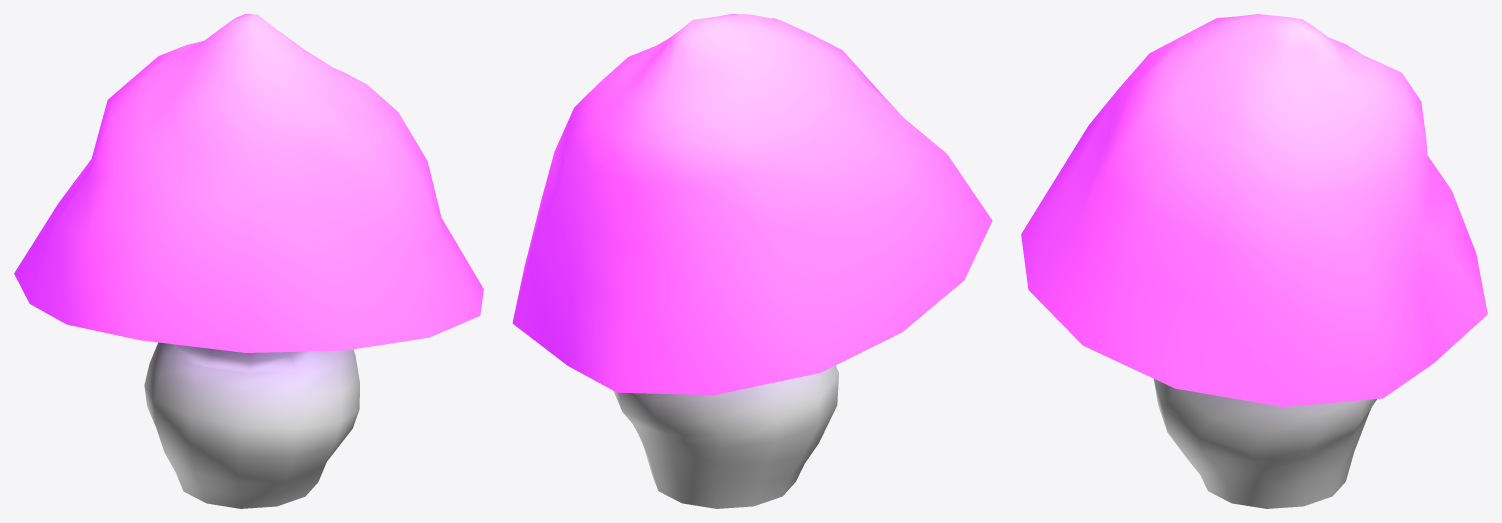
Rendered from mushroom_9.glb.
3 views of the same model, side by side, from view 1: azimuth 30°, elevation 25°; view 2: azimuth 150°, elevation 25°; view 3: azimuth 270°, elevation 25° (orthographic). The views are drawn at different scales.
Visible parts, largest first — view 1: geo1; view 2: geo1; view 3: geo1.
Part boxes in pixels (left/top/right/bottom): geo1: left=14, top=14, right=483, bottom=508; geo1: left=512, top=14, right=992, bottom=508; geo1: left=1021, top=14, right=1487, bottom=508.
Size of the model in its own units: 0.1933 by 0.2091 by 0.1912.
